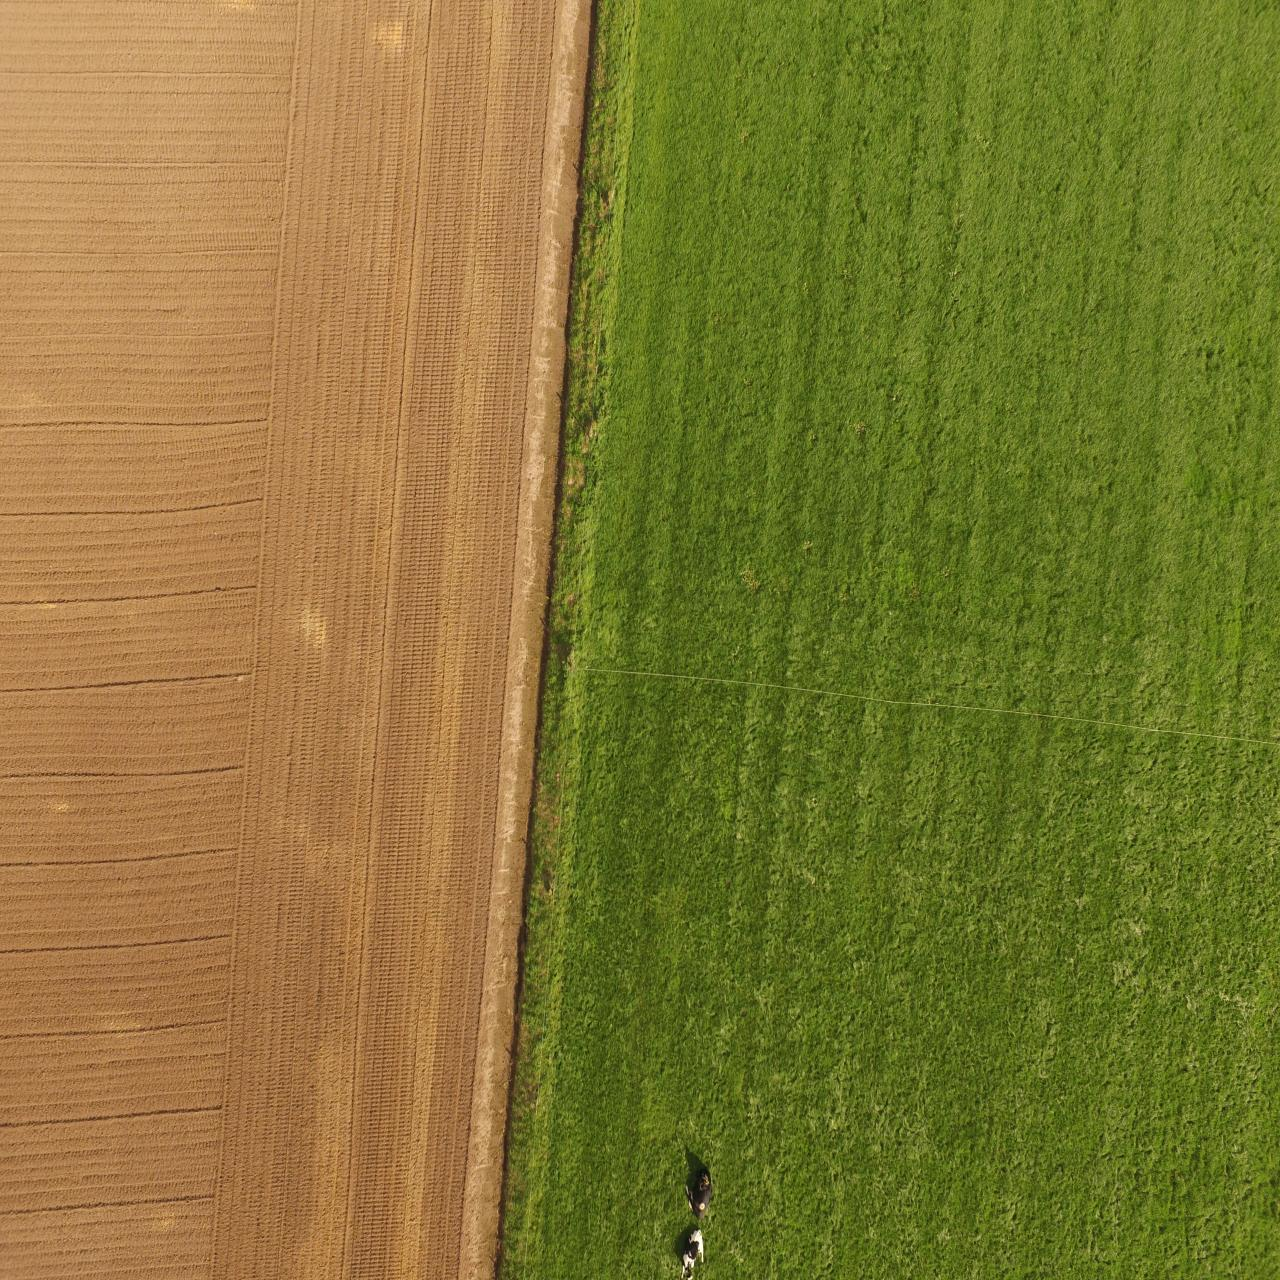cow: (683, 1164, 713, 1220), (680, 1227, 706, 1280)
